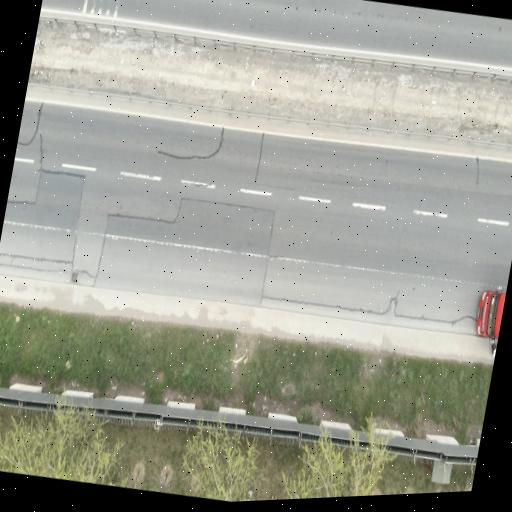person: (491, 347, 496, 357)
truck: (476, 288, 505, 342)
